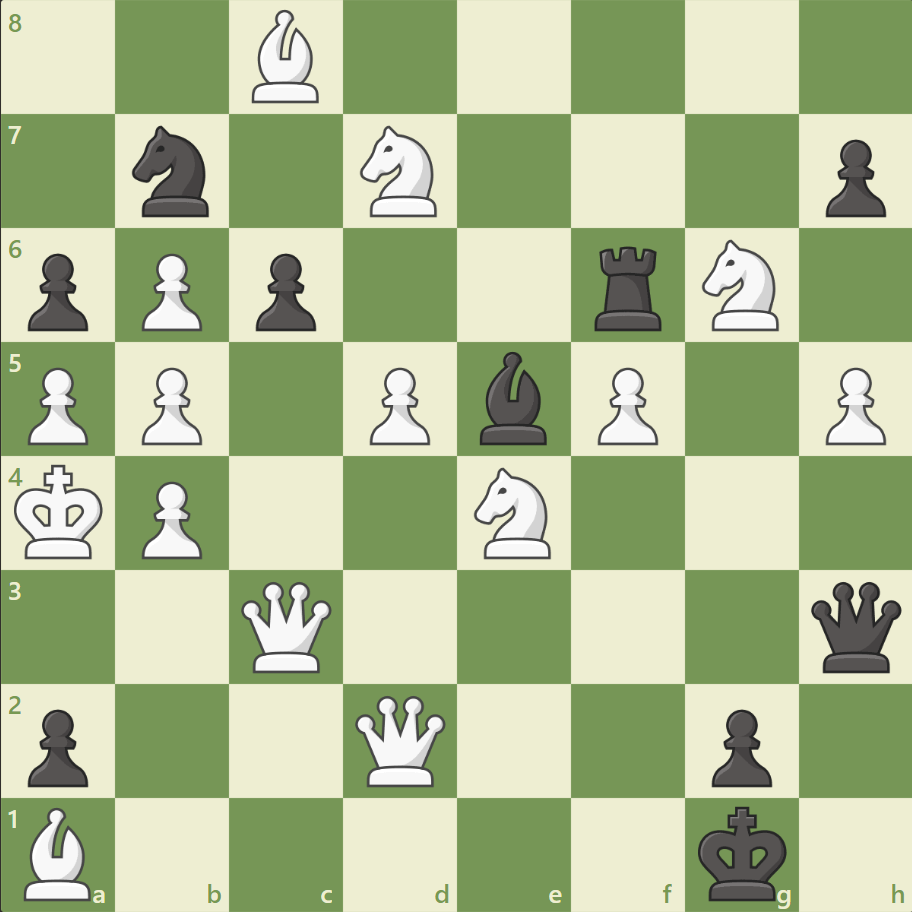B: (244, 6, 328, 109), (17, 801, 101, 904)
K: (11, 458, 111, 566)
N: (351, 121, 449, 223), (692, 234, 789, 337), (465, 461, 562, 564)
P: (133, 246, 208, 337), (20, 359, 95, 450), (133, 359, 208, 450), (133, 473, 208, 564), (361, 359, 435, 450), (588, 359, 662, 450), (815, 359, 889, 450)
Q: (237, 576, 336, 676), (351, 690, 450, 789)
b: (471, 347, 555, 449)
k: (692, 798, 792, 906)
n: (124, 121, 222, 223)
p: (20, 246, 95, 337), (247, 246, 322, 337), (20, 700, 95, 791), (701, 700, 776, 791), (815, 132, 889, 223)
q: (805, 576, 904, 676)
r: (587, 239, 670, 336)
